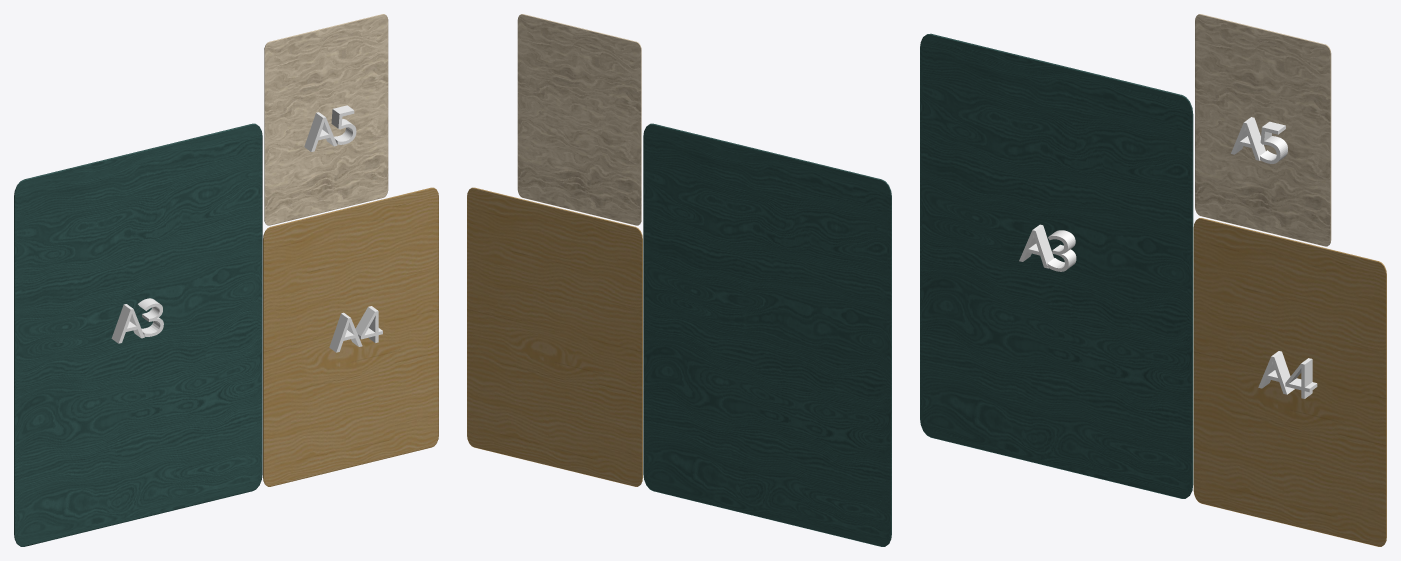
File: PaperSize.gltf
3 views of the same model, side by side, from view 1: azimuth 30°, elevation 25°; view 2: azimuth 150°, elevation 25°; view 3: azimuth 330°, elevation 25° (orthographic). The views are drawn at different scales.
Parts seen in each view (by area): view 1: Box 1, Box, Box 2, 3D Text 1 - A, 3D Text - A, 3D Text 2 - A, 3D Text 2 - 5, 3D Text 1 - 3, 3D Text - 4; view 2: Box 1, Box, Box 2; view 3: Box 1, Box, Box 2, 3D Text 2 - 5, 3D Text 1 - 3, 3D Text 1 - A, 3D Text 2 - A, 3D Text - A, 3D Text - 4.
Part boxes in pixels (left/top/right/bottom): Box 1: left=14, top=123, right=262, bottom=546; Box: left=263, top=187, right=438, bottom=486; Box 2: left=264, top=14, right=388, bottom=225; 3D Text 1 - A: left=111, top=304, right=144, bottom=343; 3D Text - A: left=329, top=312, right=362, bottom=352; 3D Text 2 - A: left=304, top=112, right=337, bottom=151; 3D Text 2 - 5: left=331, top=105, right=356, bottom=144; 3D Text 1 - 3: left=138, top=298, right=163, bottom=336; 3D Text - 4: left=355, top=306, right=382, bottom=342; Box 1: left=643, top=123, right=891, bottom=546; Box: left=467, top=187, right=642, bottom=486; Box 2: left=517, top=14, right=641, bottom=225; Box 1: left=920, top=33, right=1193, bottom=498; Box: left=1193, top=218, right=1386, bottom=546; Box 2: left=1195, top=14, right=1331, bottom=246; 3D Text 2 - 5: left=1260, top=121, right=1287, bottom=163; 3D Text 1 - 3: left=1047, top=230, right=1076, bottom=271; 3D Text 1 - A: left=1019, top=224, right=1053, bottom=268; 3D Text 2 - A: left=1231, top=117, right=1265, bottom=160; 3D Text - A: left=1258, top=351, right=1294, bottom=394; 3D Text - 4: left=1285, top=358, right=1317, bottom=398.
Size of the model in its own units: 0.5081 by 0.509 by 0.0155.
9 materials, 3 textured.
